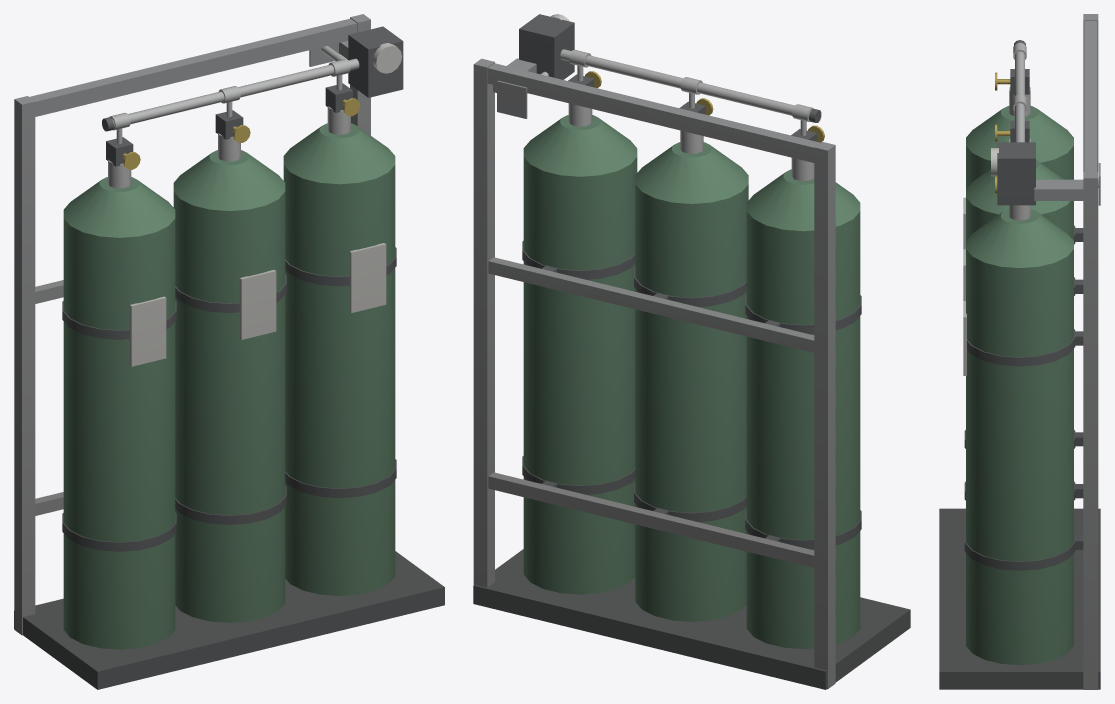
Rendered from airTank_steel.glb.
The picture shows the model from 3 angles, left to right: view 1: azimuth 30°, elevation 25°; view 2: azimuth 150°, elevation 25°; view 3: azimuth 270°, elevation 25°; orthographic projection. The views are drawn at different scales.
Visible parts, largest first — view 1: airTank_steel; view 2: airTank_steel; view 3: airTank_steel.
Part boxes in pixels (box(x1,y1,x2,y2)): airTank_steel: box(14, 14, 444, 689); airTank_steel: box(473, 14, 910, 689); airTank_steel: box(939, 14, 1100, 689).
Bounding box in the file's own units: 1.21 × 1.8 × 0.5.
